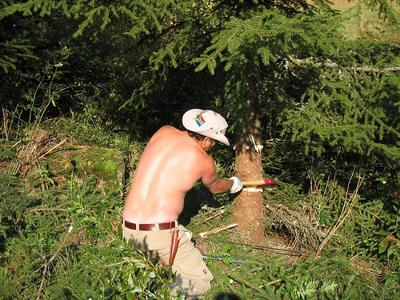person: (121, 109, 242, 300)
